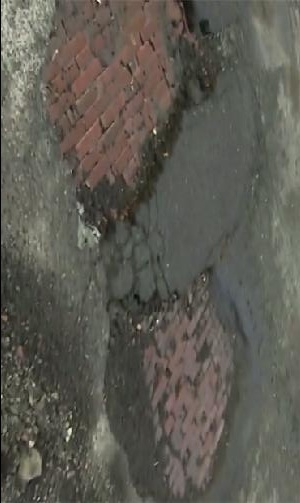pothole: (44, 0, 223, 248), (103, 263, 245, 503)
